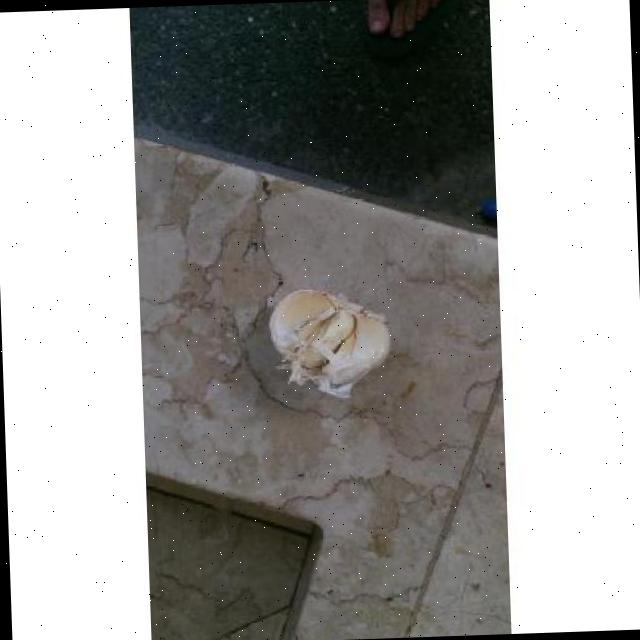garlic: (268, 289, 388, 397)
